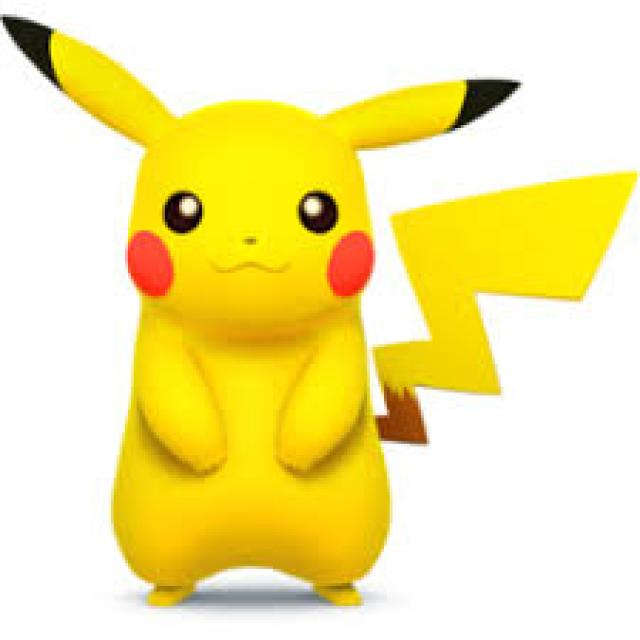pikachu: (2, 14, 640, 629)
